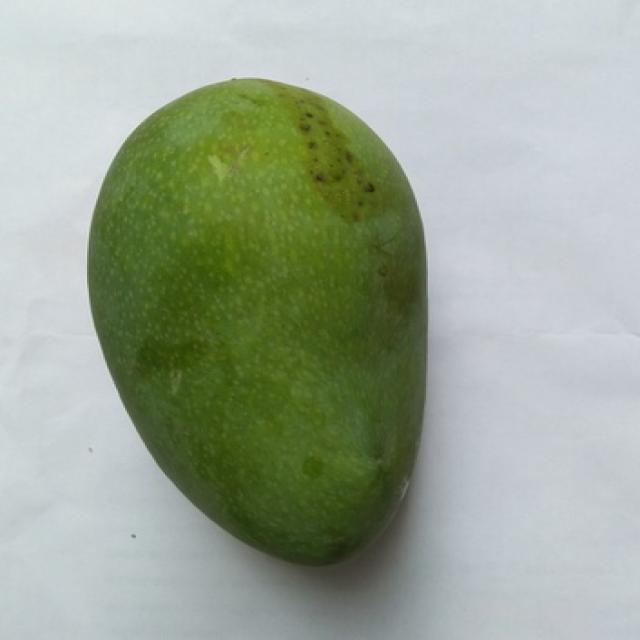Mango: (87, 79, 422, 563)
